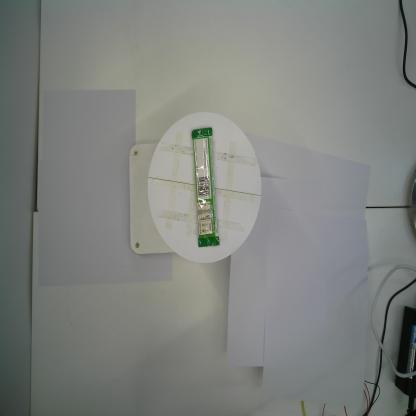Chocolate: (191, 126, 221, 248)
